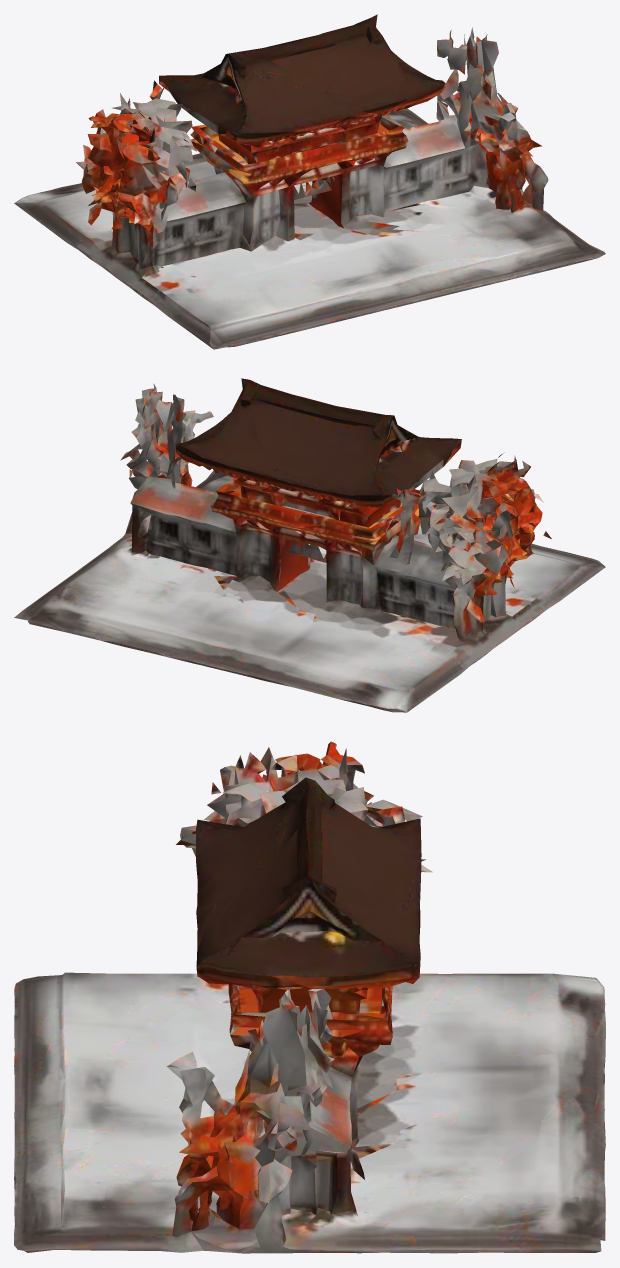
File: shimogamo-shrine.glb
3 renders of one model, top to bottom at view 1: azimuth 30°, elevation 25°; view 2: azimuth 150°, elevation 25°; view 3: azimuth 270°, elevation 25°, orthographic. The views are drawn at different scales.
Visible parts, largest first — view 1: logan-textured.obj; view 2: logan-textured.obj; view 3: logan-textured.obj.
Part boxes in pixels (bbox=[...]): logan-textured.obj: bbox=[14, 14, 605, 349]; logan-textured.obj: bbox=[14, 378, 605, 712]; logan-textured.obj: bbox=[14, 741, 605, 1253].
Bounding box in the file's own units: 1 × 0.4637 × 0.8734.
Materials: 1 (1 with a texture image).
